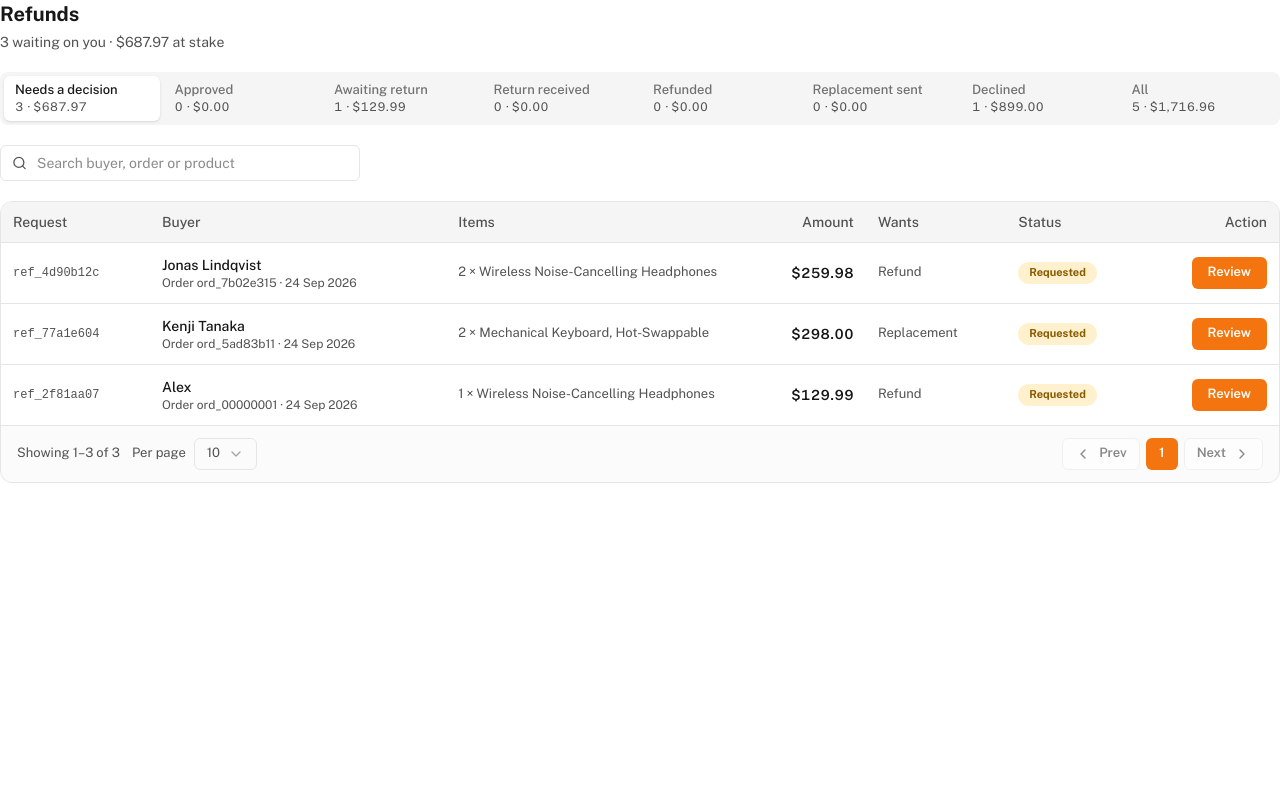
SellerRefunds › approves a request from the drawer and follows it into its new tab
This screenshot has width=1280, height=800.
Expected: the text "ref_4d90b12c" is shown, [1, 242, 150, 303]
Click the button "Review" in the row of "ref_4d90b12c".
click(1229, 272)  # box [1192, 256, 1267, 288]
(page scrolled)
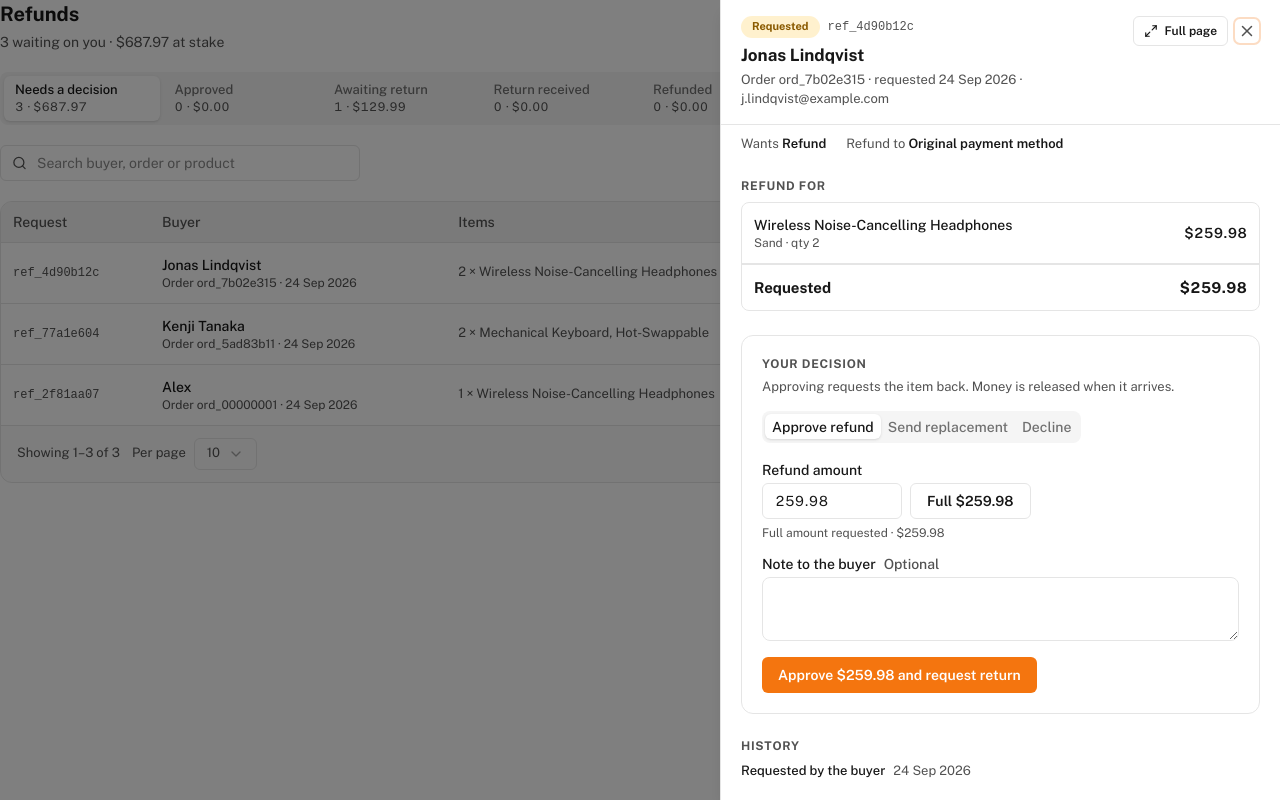
Now the heading "Jonas Lindqvist" is shown, box [741, 45, 864, 65]
The button names the amount, as the design does.
Click the button "Approve $259.98 and request return".
click(899, 675)  # box [762, 657, 1037, 693]
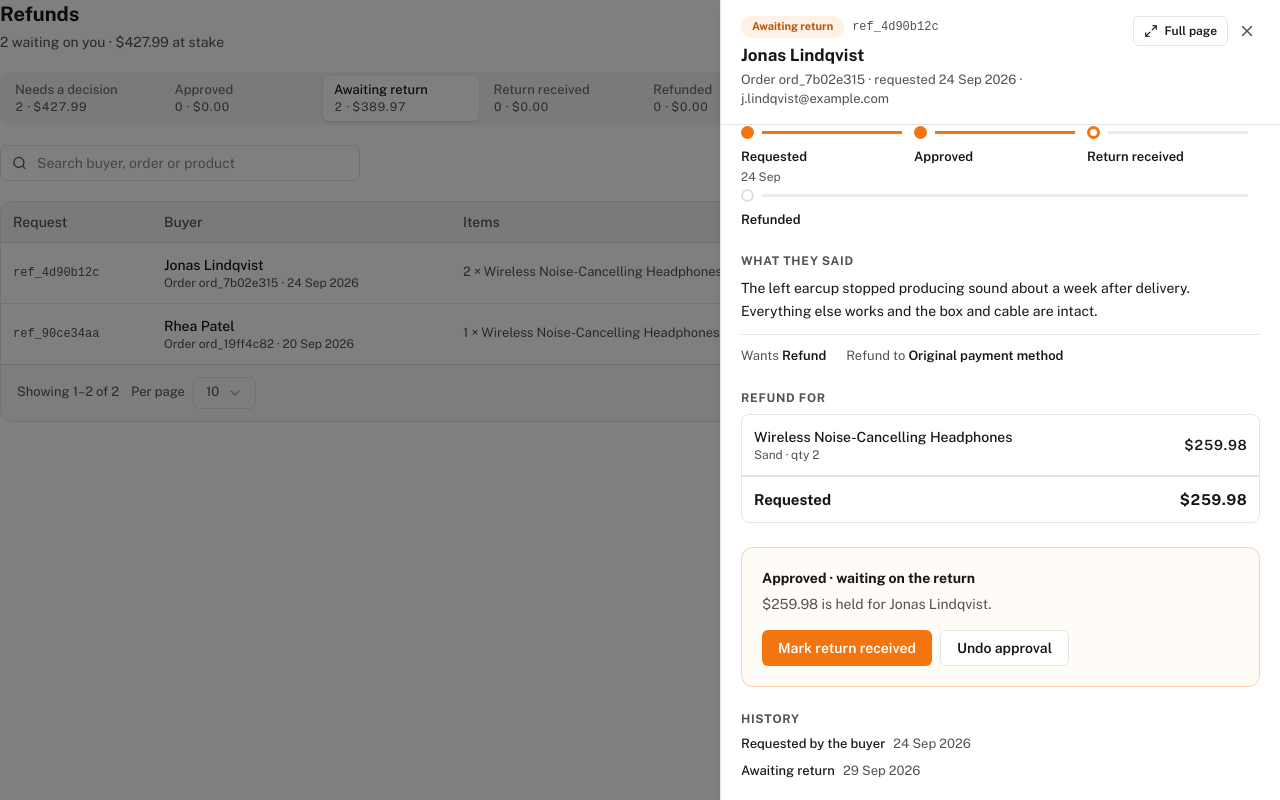
Now the heading "Approved · waiting on the return" is shown, box [762, 570, 975, 586]
Now the button "Mark return received" is shown, box [762, 630, 932, 666]
Now the button "Undo approval" is shown, box [940, 630, 1069, 666]
Press Escape
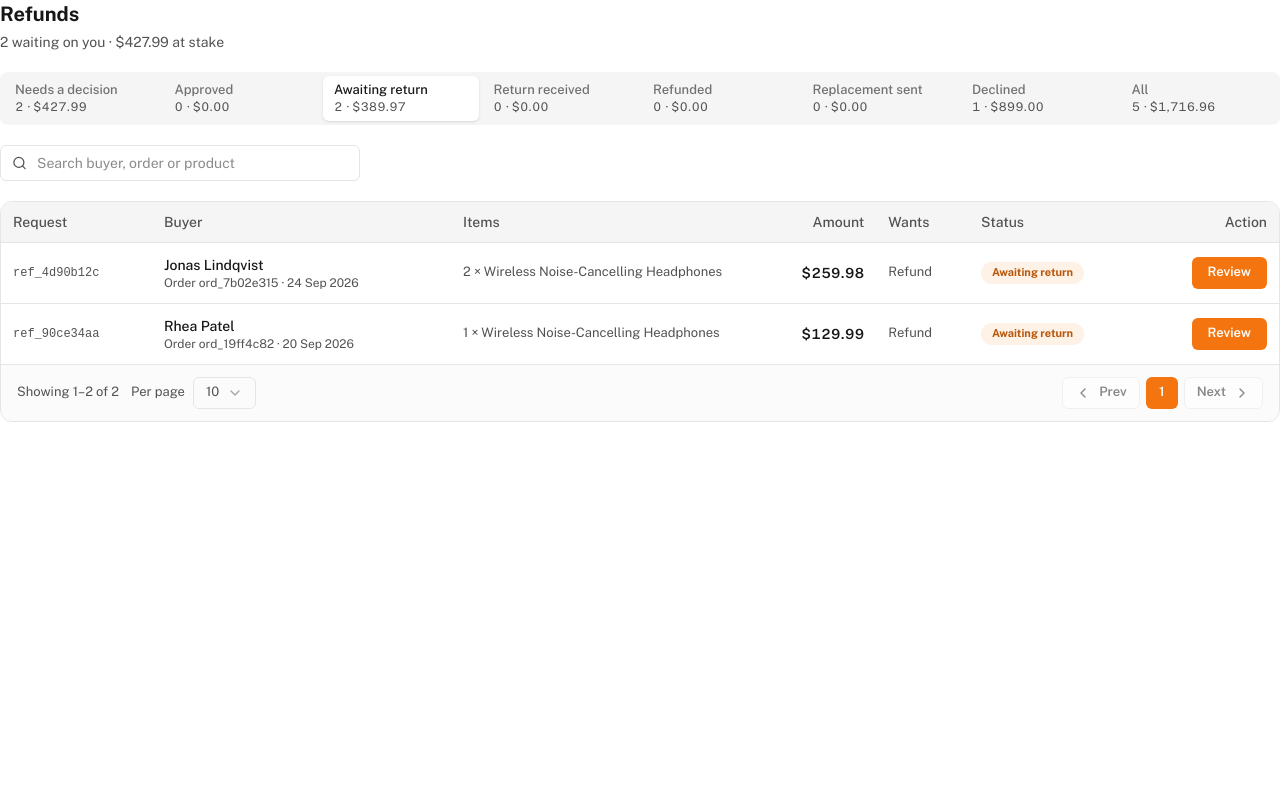
Expected: the text "ref_4d90b12c" is shown, [1, 242, 152, 303]
Now the dialog is gone
